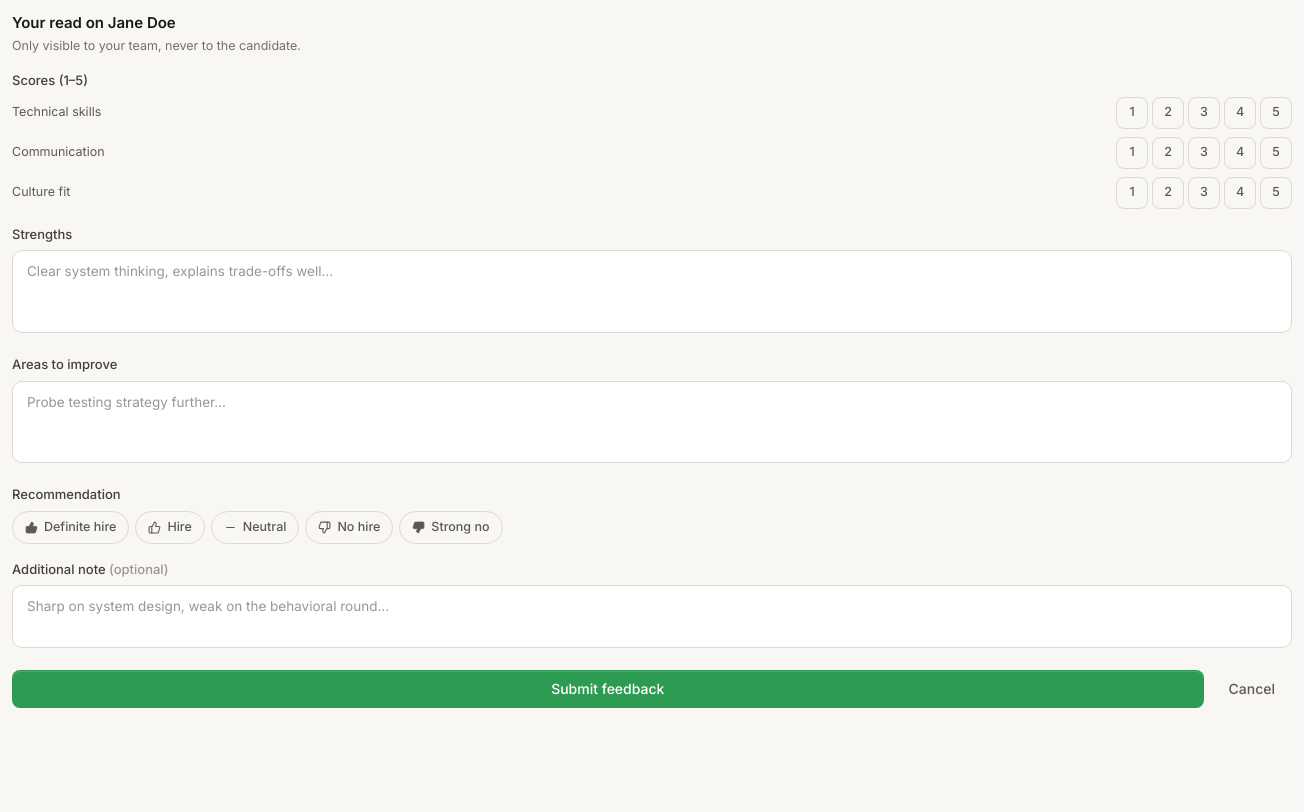
it: ScorecardForm — submission › shows a validation message and never submits when no recommendation is picked
The image size is (1304, 812).
What coordinates should you click on to do the following:
click the button "Submit feedback"
I would click on:
 (608, 688)
Its box is [12,670,1204,708].
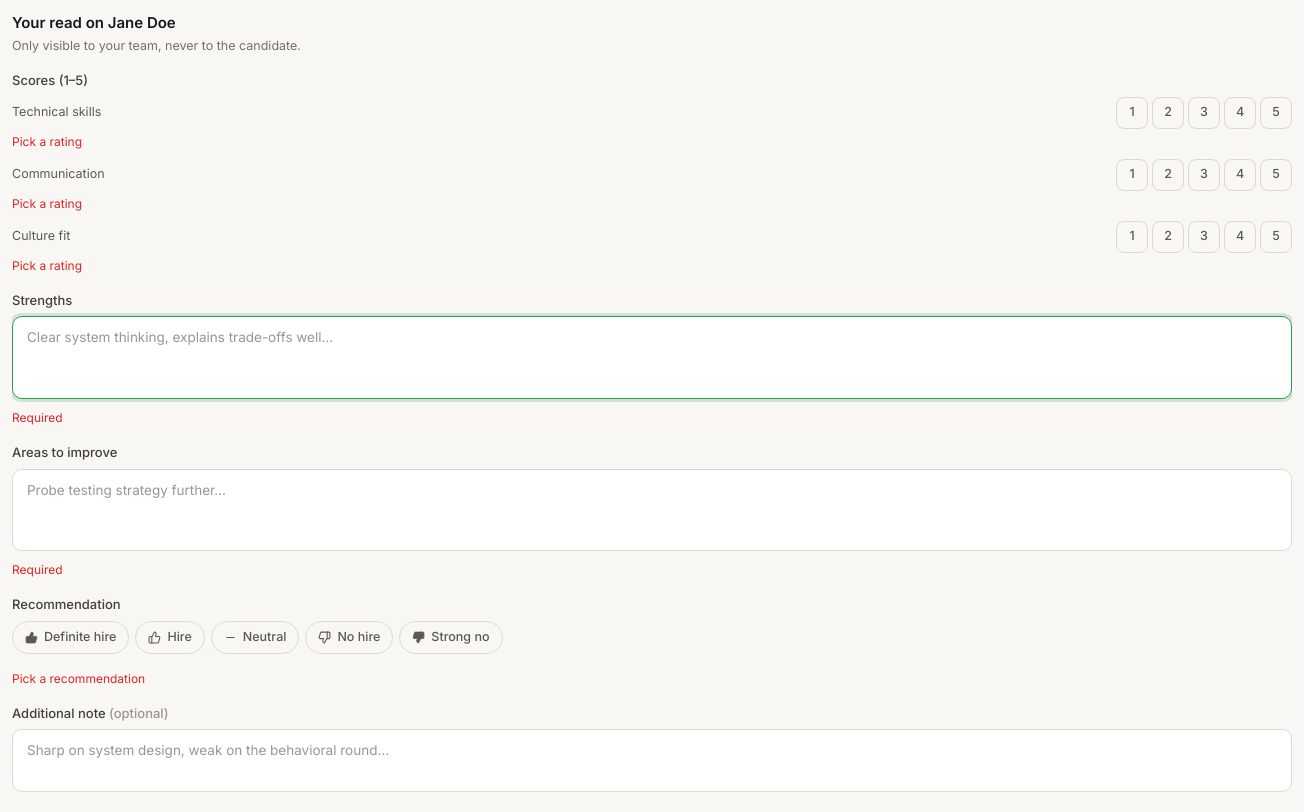
expect the text "Pick a recommendation" is shown: met, box [12,670,145,686]
